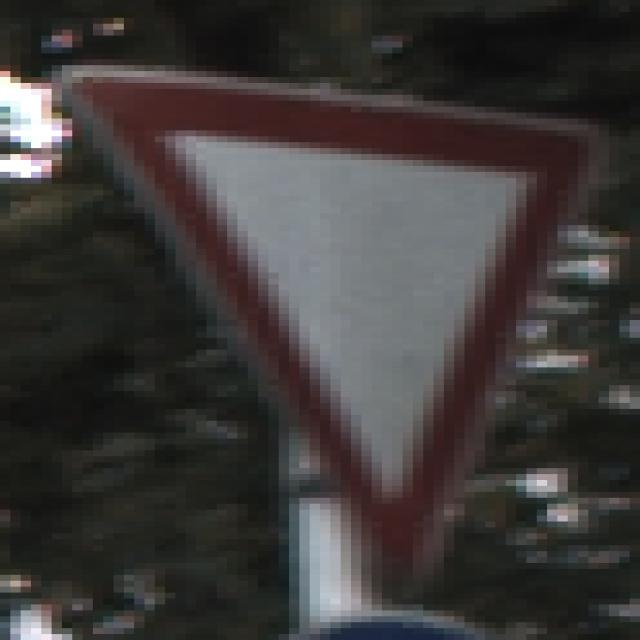Give Way: (63, 60, 589, 588)
